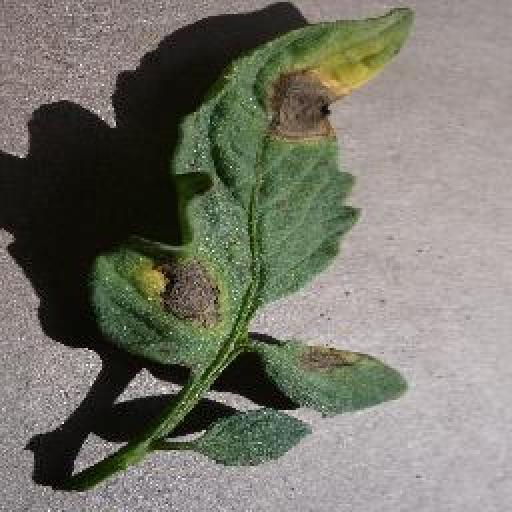Early Blight: (91, 4, 416, 419)
